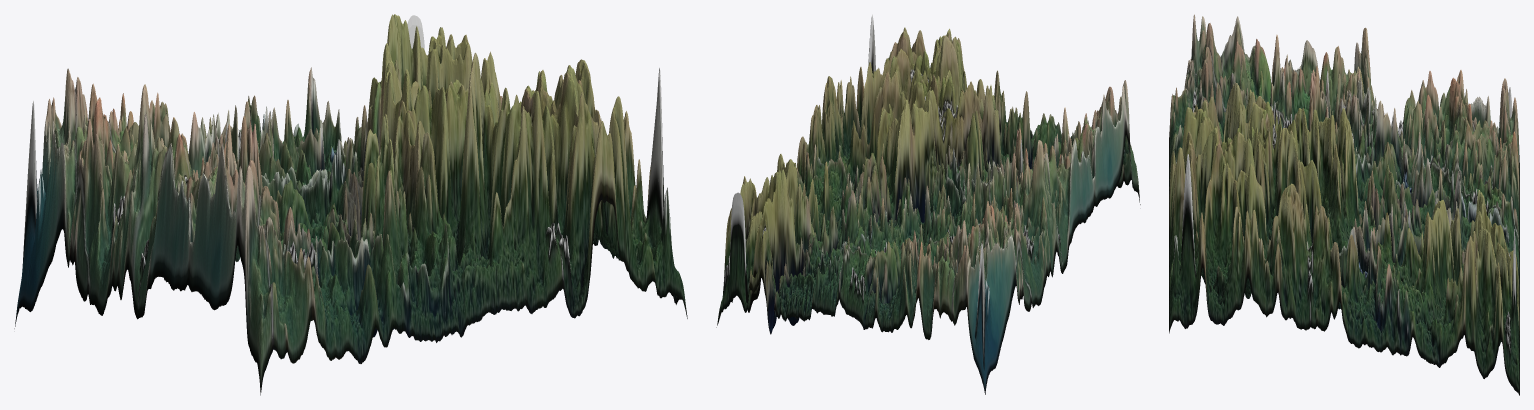
Rendered from terrain-lod1.glb.
3 views of the same model, side by side, from view 1: azimuth 30°, elevation 25°; view 2: azimuth 150°, elevation 25°; view 3: azimuth 270°, elevation 25° (orthographic). The views are drawn at different scales.
Parts seen in each view (by area): view 1: geometry_0; view 2: geometry_0; view 3: geometry_0.
Part boxes in pixels (bbox=[...]): geometry_0: bbox=[14, 14, 687, 395]; geometry_0: bbox=[716, 14, 1140, 394]; geometry_0: bbox=[1169, 14, 1519, 395].
Size of the model in its own units: 1534 by 1243 by 1534.
1 material, 1 textured.
